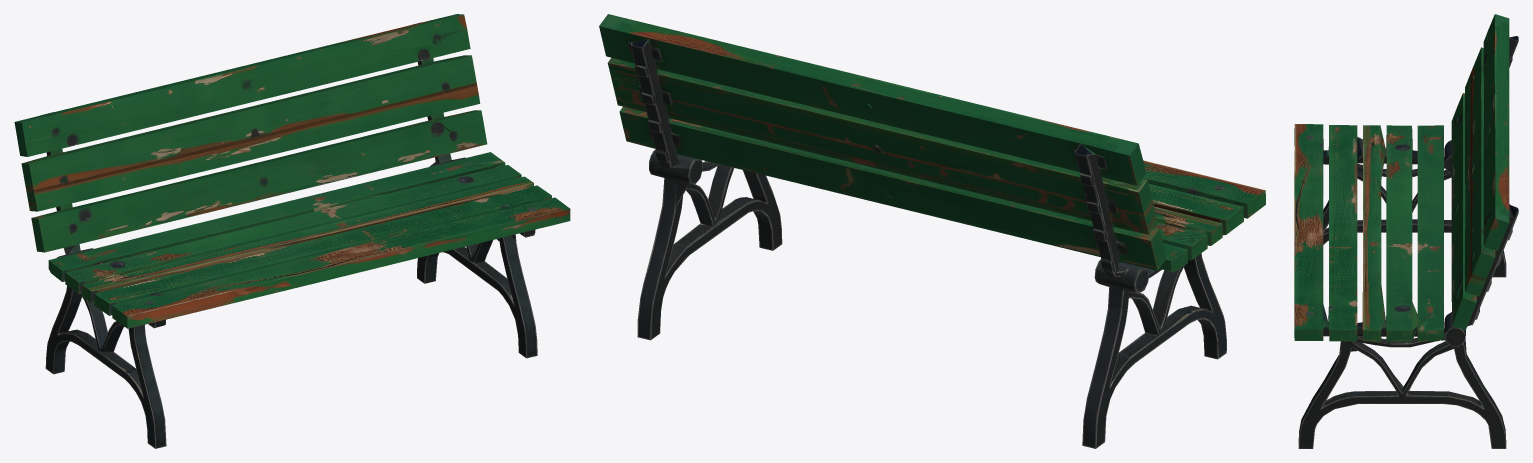
The picture shows the model from 3 angles, left to right: view 1: azimuth 30°, elevation 25°; view 2: azimuth 150°, elevation 25°; view 3: azimuth 270°, elevation 25°; orthographic projection. The views are drawn at different scales.
Size of the model in its own units: 1.9 by 1.06 by 0.8787.
1 material, 1 textured.
